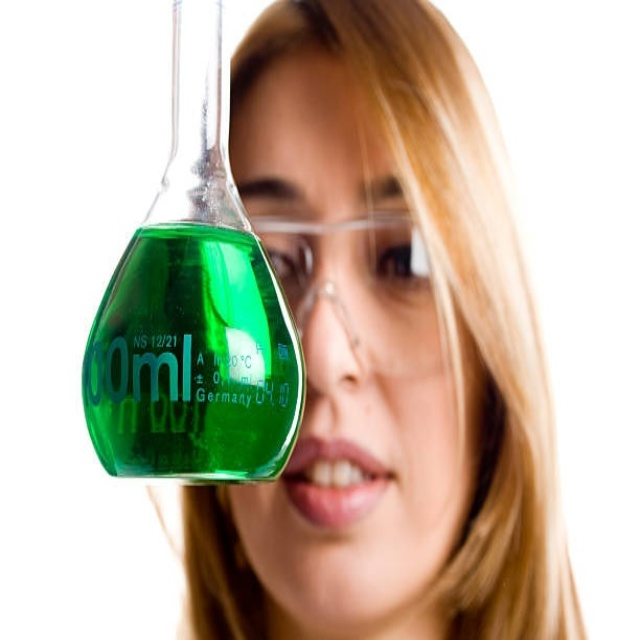Gafas: (240, 208, 446, 377)
Sin_mascara: (280, 422, 411, 599)
